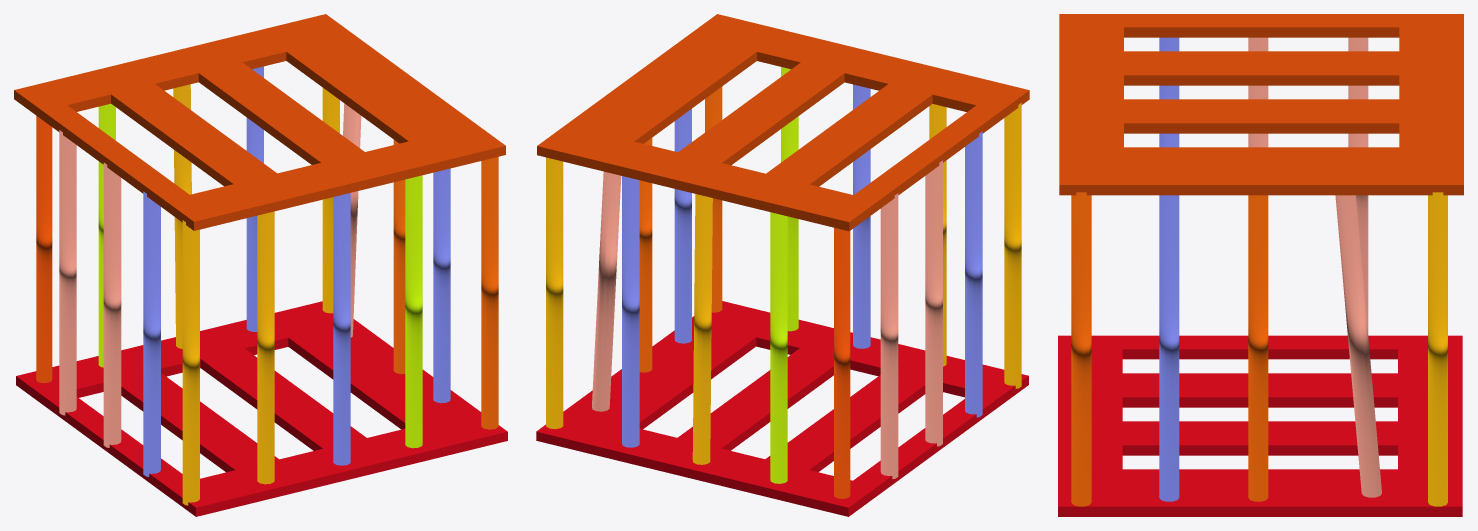
Rendered from cage.fbx.
3 renders of one model, left to right at view 1: azimuth 30°, elevation 25°; view 2: azimuth 150°, elevation 25°; view 3: azimuth 270°, elevation 25°, orthographic. The views are drawn at different scales.
Visible parts, largest first — view 1: Cube; view 2: Cube; view 3: Cube.
Part boxes in pixels (bbox=[...]): Cube: bbox=[14, 14, 507, 516]; Cube: bbox=[536, 14, 1029, 516]; Cube: bbox=[1058, 14, 1463, 516].
Bounding box in the file's own units: 922 × 829 × 920.
